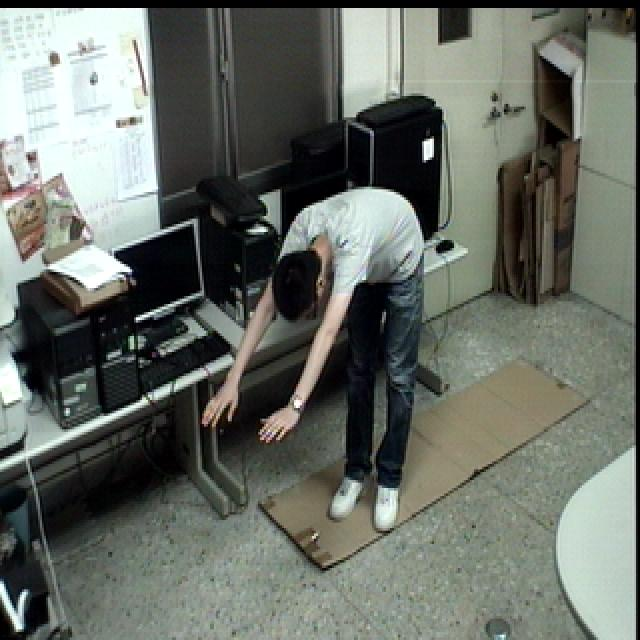bend: (199, 180, 436, 538)
